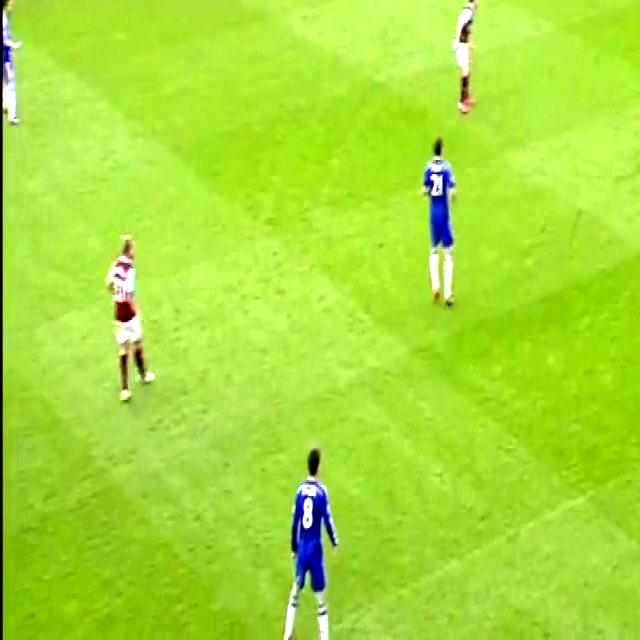soccer-player: (278, 435, 345, 640), (99, 218, 161, 405), (415, 122, 466, 314), (445, 0, 482, 123), (0, 0, 22, 132)
